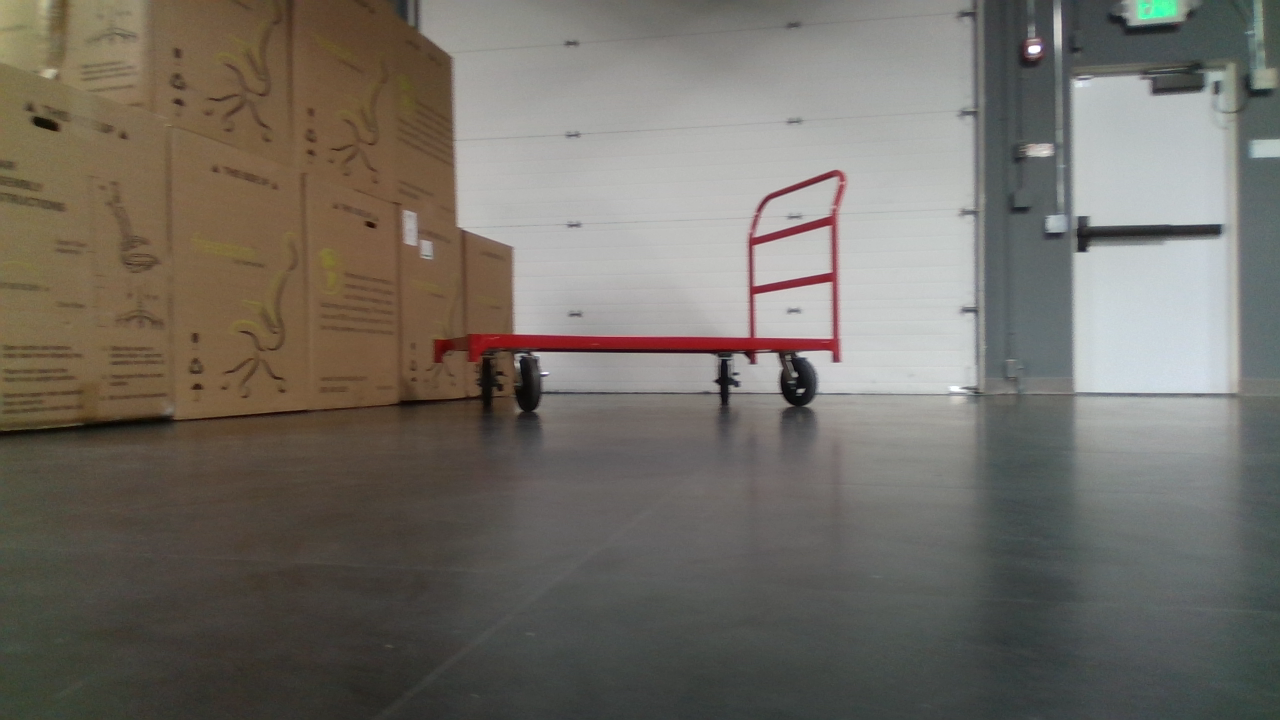Dolly: (432, 164, 847, 418)
Wheel: (510, 353, 548, 416), (778, 355, 819, 407), (712, 354, 739, 406), (474, 351, 499, 407)
